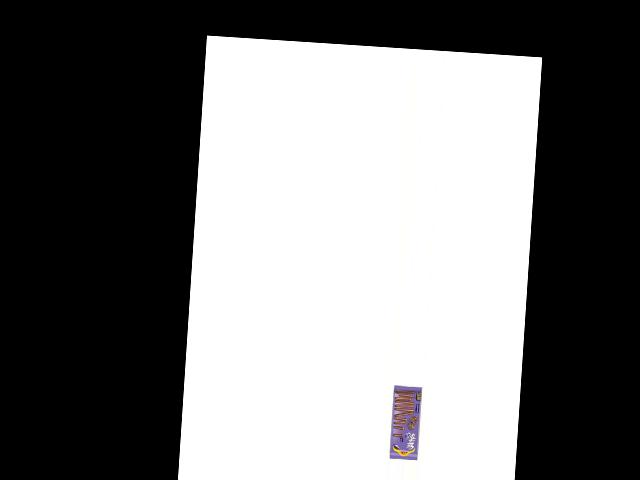chocolate: (385, 383, 422, 461)
